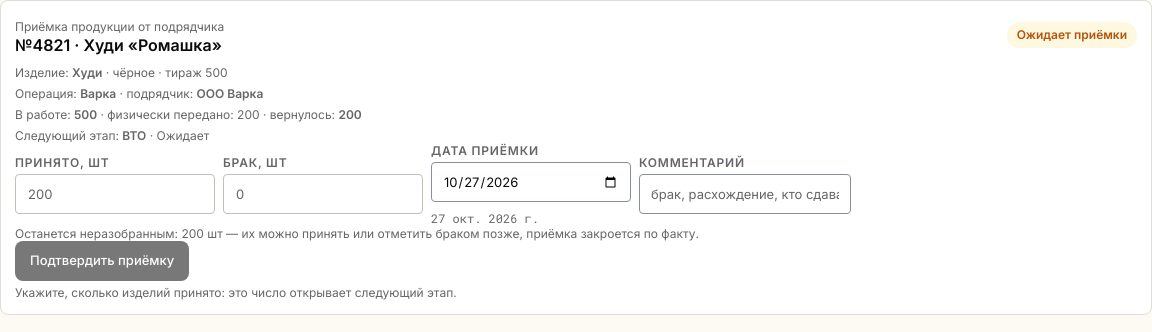
Scenario: карточка приёмки подряда › принято и брак больше вернувшегося — приёмку не подтвердить
Type "180" into the number field named "Сколько принято" at (115, 194), box [15,174,215,214]
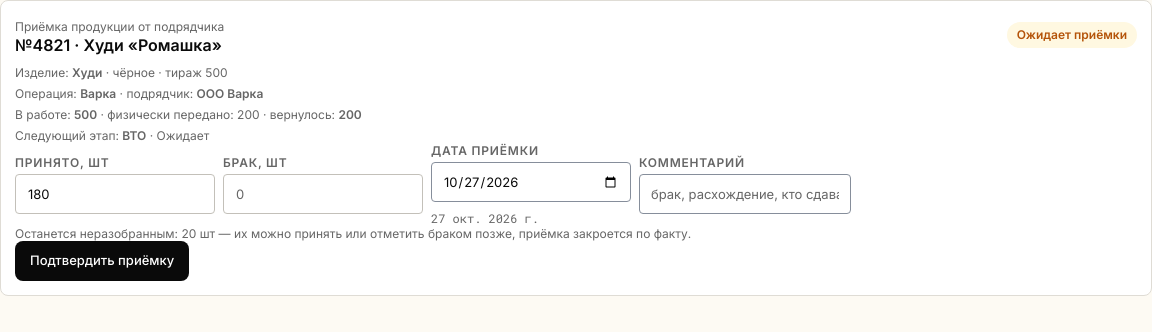
Type "50" into the number field named "Сколько брака" at (323, 194), box [223,174,423,214]
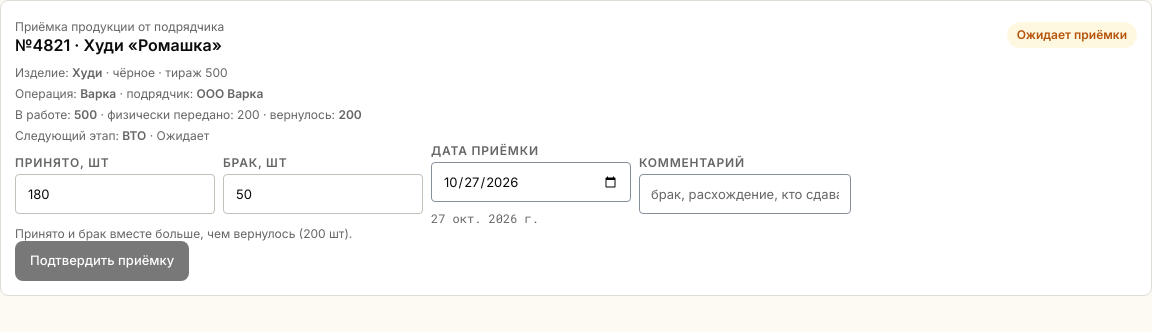
Expected: the button "Подтвердить приёмку" is disabled, [15,241,189,281]
